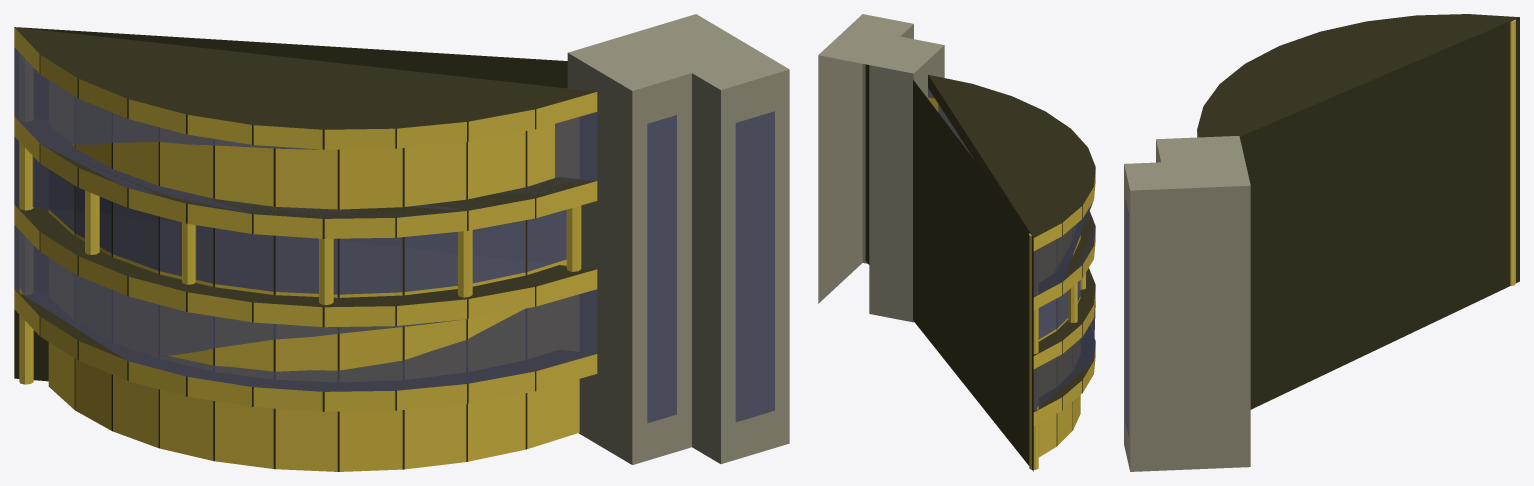
The model's file is MS_Building04.fbx.
The picture shows the model from 3 angles, left to right: view 1: azimuth 30°, elevation 25°; view 2: azimuth 150°, elevation 25°; view 3: azimuth 270°, elevation 25°; orthographic projection. The views are drawn at different scales.
Parts seen in each view (by area): view 1: MS_Building04; view 2: MS_Building04; view 3: MS_Building04.
Part boxes in pixels (x1,y1,x2,y2): MS_Building04: [14, 14, 789, 471]; MS_Building04: [818, 14, 1095, 471]; MS_Building04: [1124, 14, 1519, 471].
Bounding box in the file's own units: 1348 × 1170 × 918.
